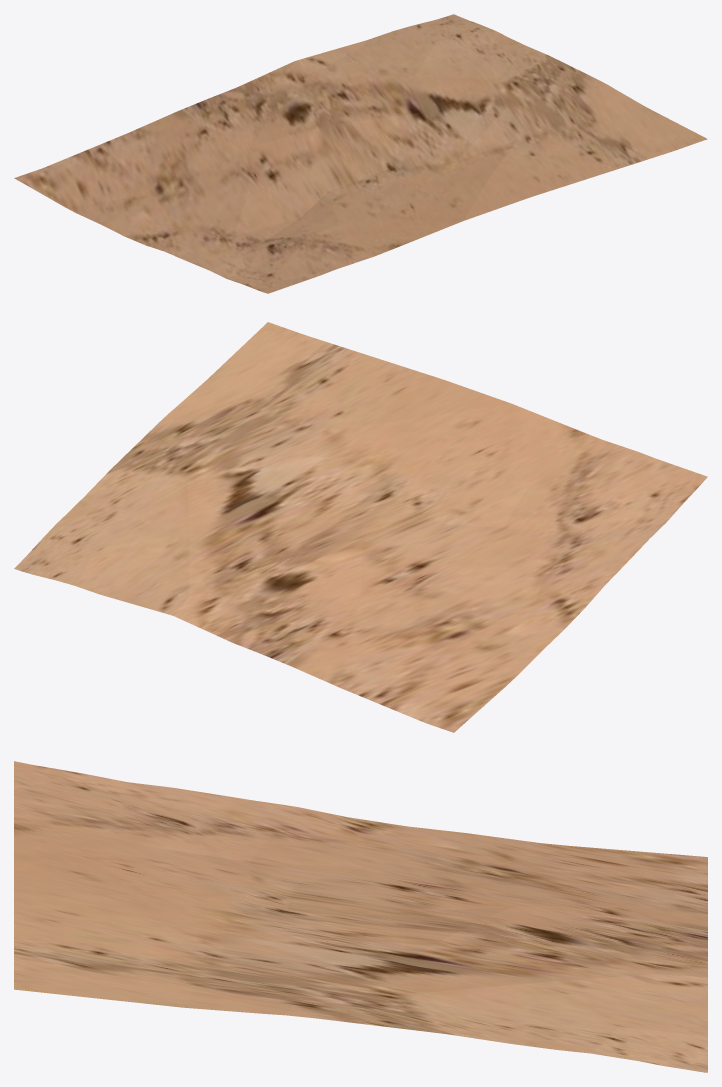
3 renders of one model, top to bottom at view 1: azimuth 30°, elevation 25°; view 2: azimuth 150°, elevation 25°; view 3: azimuth 270°, elevation 25°, orthographic. The views are drawn at different scales.
Bounding box in the file's own units: 2.09 × 0.5339 × 2.09.
Materials: 3 (3 with a texture image).
